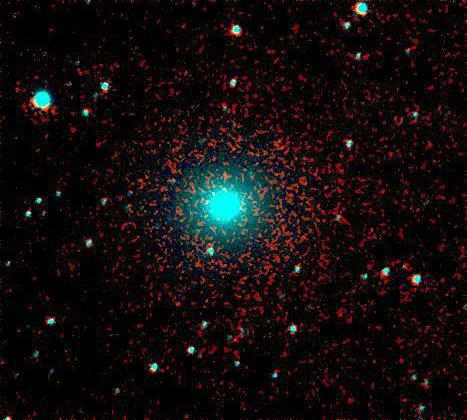star: (145, 241, 175, 271)
